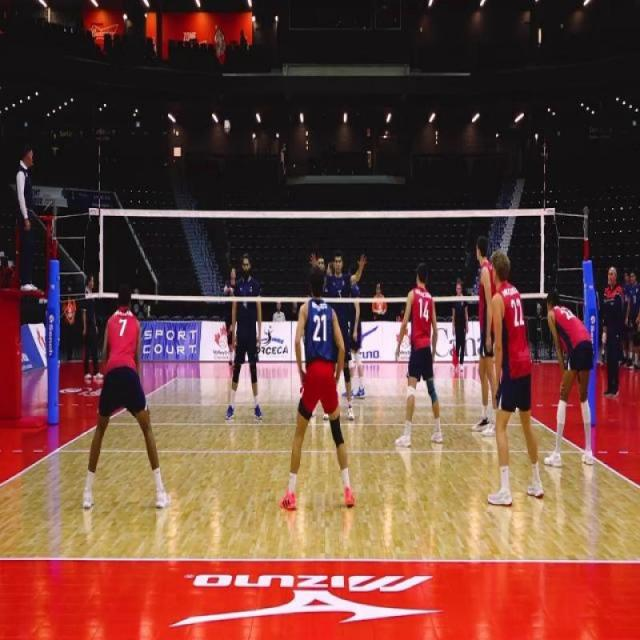volleyball: (223, 118, 231, 136)
